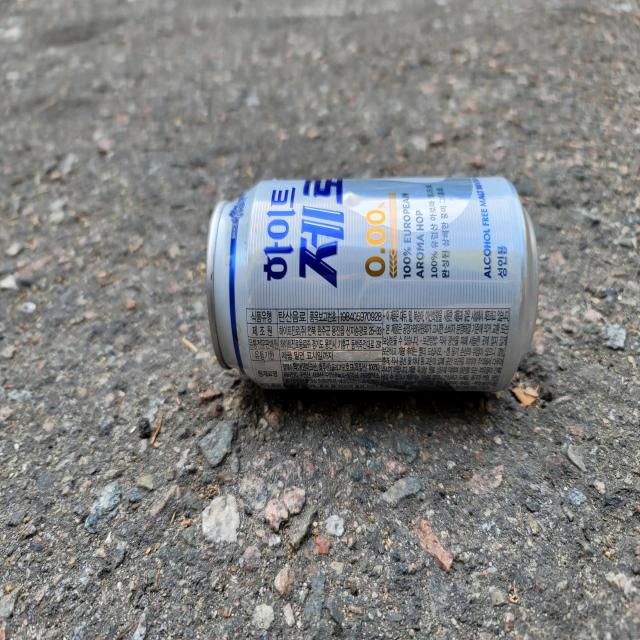can: (206, 177, 539, 391)
